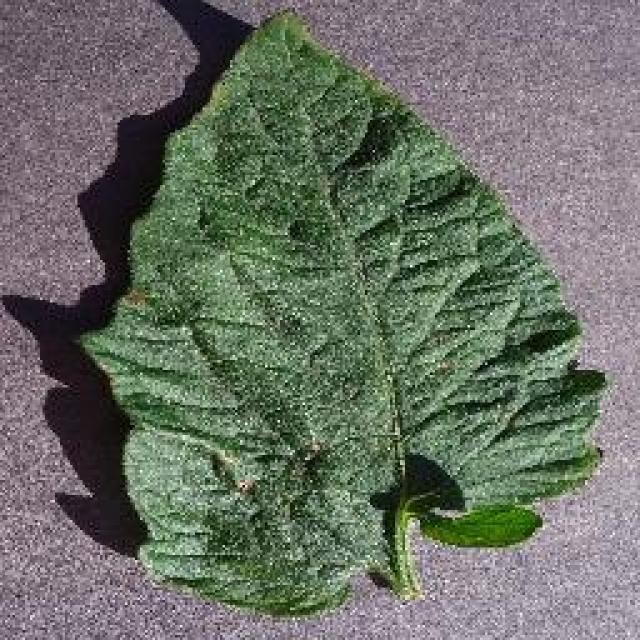Tomato___Target_Spot: (82, 10, 605, 612)
